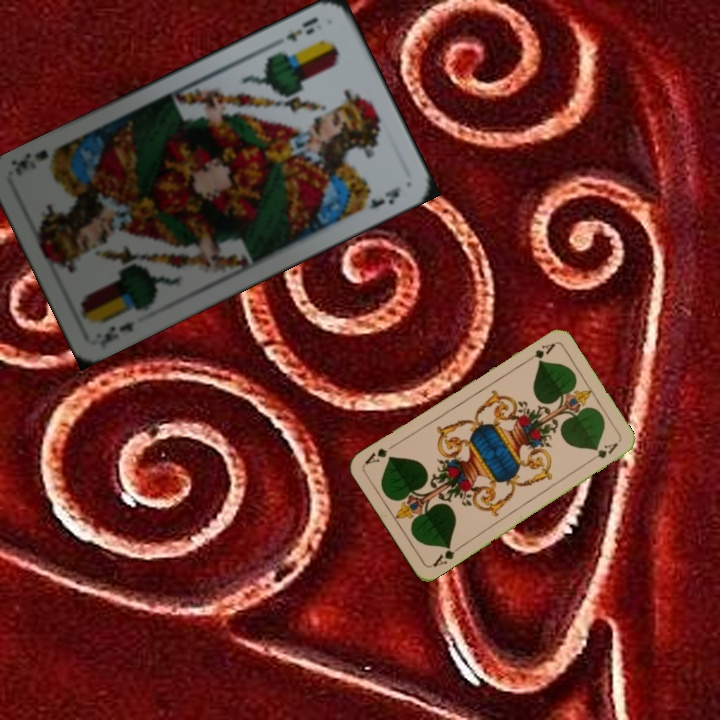EK: (95, 316, 137, 350), (282, 13, 322, 45)
GA: (428, 541, 464, 570), (521, 339, 558, 365)
